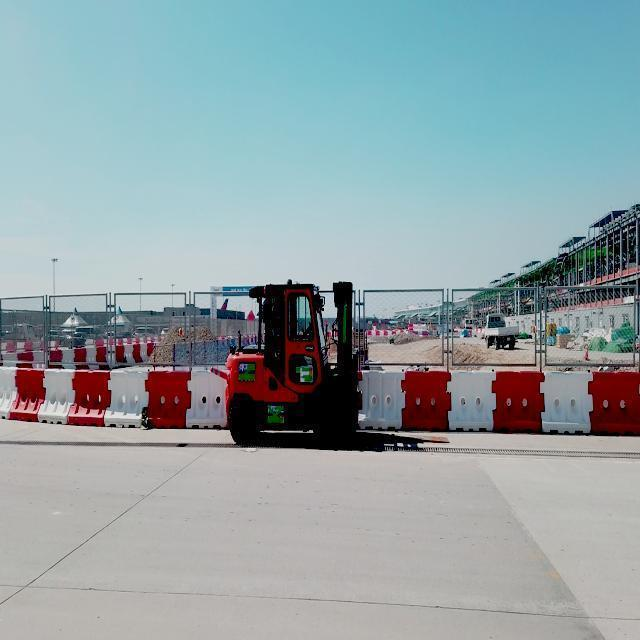forklift: (221, 283, 361, 441)
